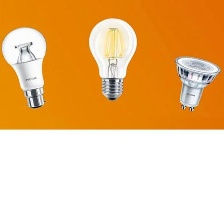light_bulb: (87, 17, 139, 103), (0, 24, 48, 111), (169, 53, 222, 112)
